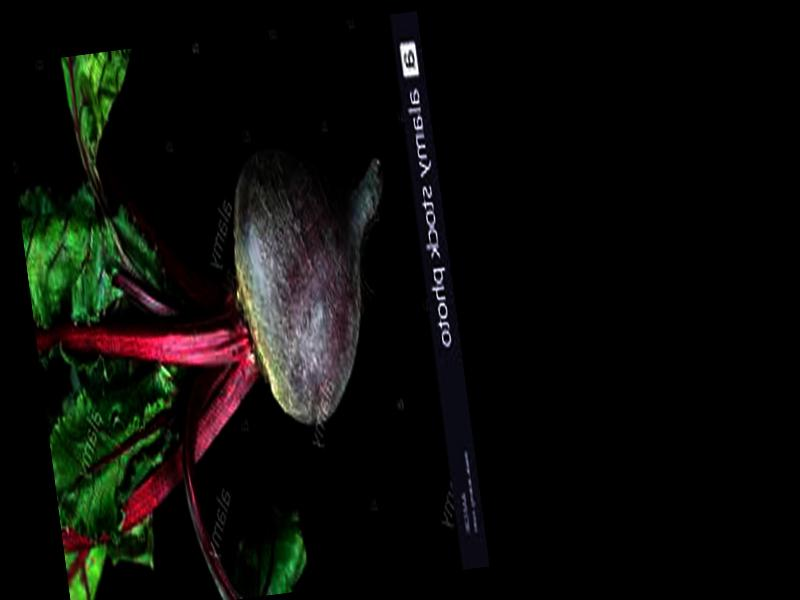Beet: (2, 21, 434, 600)
